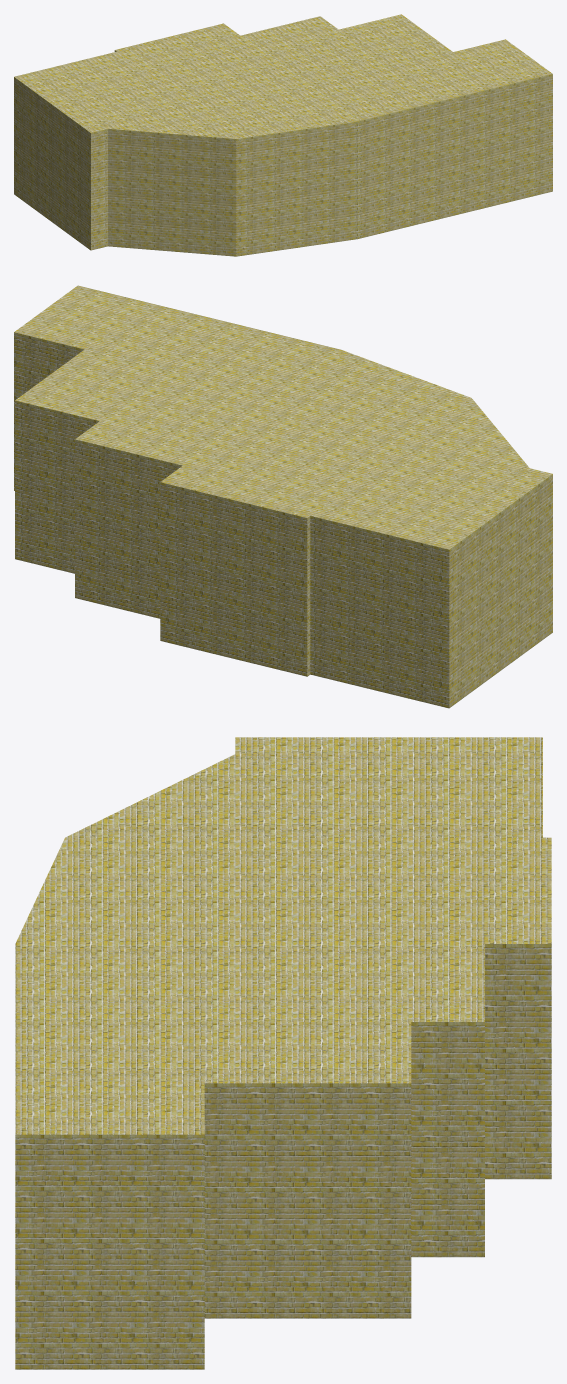
The model's file is whs_simple.glb.
3 views of the same model, one above another, from view 1: azimuth 30°, elevation 25°; view 2: azimuth 150°, elevation 25°; view 3: azimuth 270°, elevation 25° (orthographic). The views are drawn at different scales.
Visible parts, largest first — view 1: root; view 2: root; view 3: root.
Boxes of the visible parts, x1,y1,x2,y2 form: root: [14, 14, 552, 256]; root: [14, 285, 552, 708]; root: [15, 737, 551, 1369].
Bounding box in the file's own units: 32.57 × 8.99 × 18.59.
Materials: 1 (1 with a texture image).
